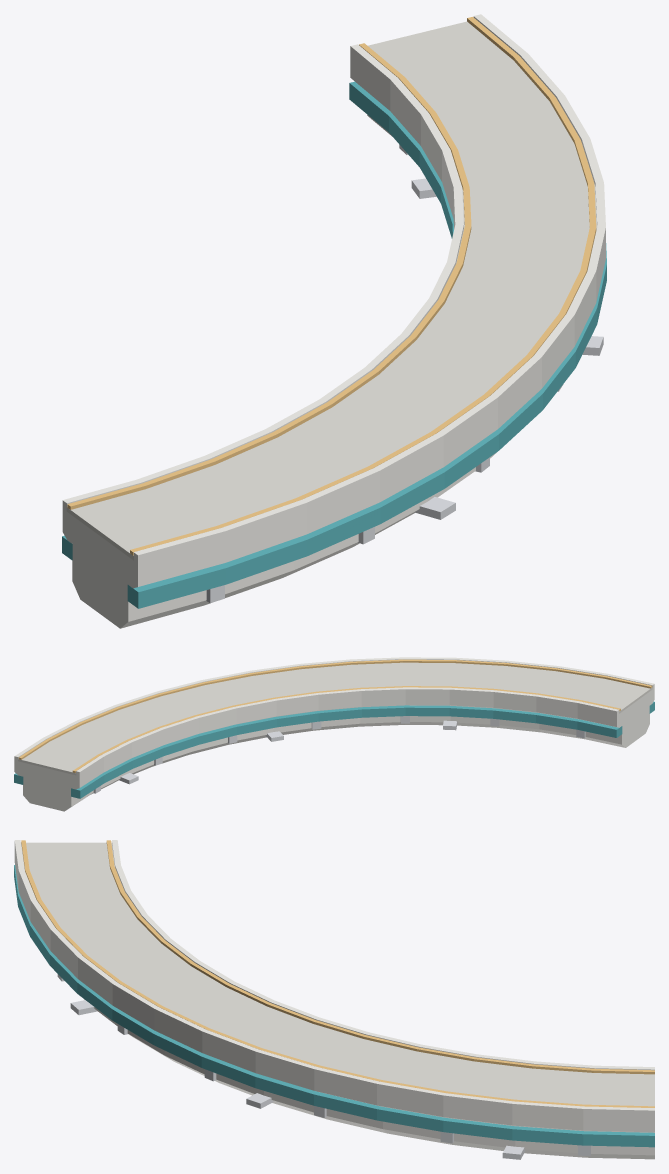
File: arcology-towers-and-skyways-maglev-guideway-curve-2cf0683a__23257.glb
3 views of the same model, one above another, from view 1: azimuth 30°, elevation 25°; view 2: azimuth 150°, elevation 25°; view 3: azimuth 270°, elevation 25° (orthographic). The views are drawn at different scales.
Visible parts, largest first — view 1: maglev-guideway-curve; view 2: maglev-guideway-curve; view 3: maglev-guideway-curve.
Boxes of the visible parts, x1,y1,x2,y2 form: maglev-guideway-curve: (62,14,606,628); maglev-guideway-curve: (14,657,654,811); maglev-guideway-curve: (14,840,654,1159).
Bounding box in the file's own units: 17.42 × 1.77 × 17.42.
